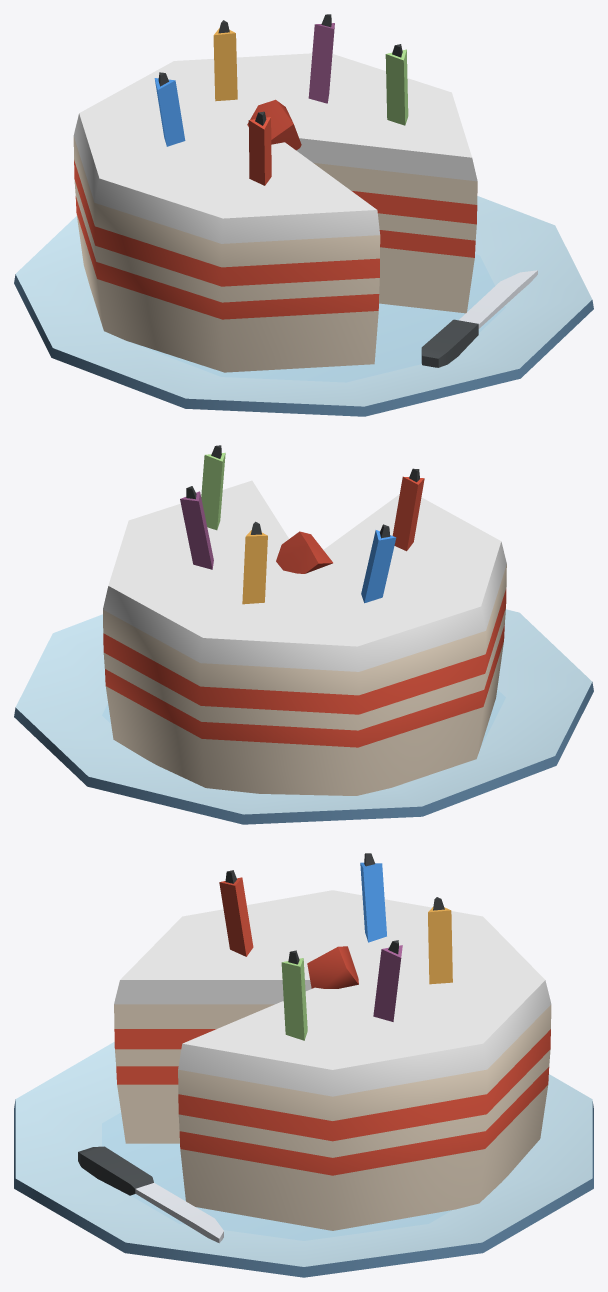
The model's file is SM_Prop_Cake_01.obj.
3 renders of one model, top to bottom at view 1: azimuth 30°, elevation 25°; view 2: azimuth 150°, elevation 25°; view 3: azimuth 270°, elevation 25°, orthographic. The views are drawn at different scales.
Parts seen in each view (by area): view 1: SM_Prop_Cake_01_Mat_SwatchOverlay_PolygonTown_01_Inst; view 2: SM_Prop_Cake_01_Mat_SwatchOverlay_PolygonTown_01_Inst; view 3: SM_Prop_Cake_01_Mat_SwatchOverlay_PolygonTown_01_Inst.
Boxes of the visible parts, x1=… form: SM_Prop_Cake_01_Mat_SwatchOverlay_PolygonTown_01_Inst: x1=14, y1=14, x2=593, y2=416; SM_Prop_Cake_01_Mat_SwatchOverlay_PolygonTown_01_Inst: x1=14, y1=445, x2=593, y2=824; SM_Prop_Cake_01_Mat_SwatchOverlay_PolygonTown_01_Inst: x1=14, y1=853, x2=593, y2=1277.
Bounding box in the file's own units: 0.557 × 0.2812 × 0.5297.
Materials: 1 (1 with a texture image).
